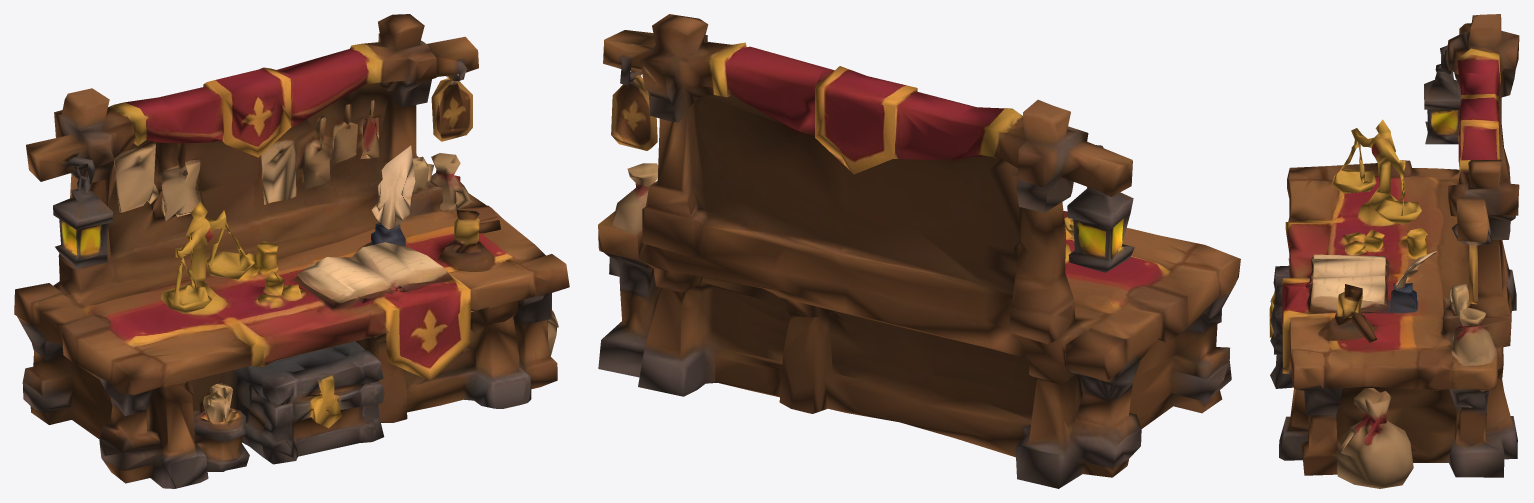
File: broker_stall-BDtCU-Vx.glb
3 views of the same model, side by side, from view 1: azimuth 30°, elevation 25°; view 2: azimuth 150°, elevation 25°; view 3: azimuth 270°, elevation 25° (orthographic). The views are drawn at different scales.
Visible parts, largest first — view 1: tripo_node_858e647f-d8ef-4c0c-8121-72aee9437189; view 2: tripo_node_858e647f-d8ef-4c0c-8121-72aee9437189; view 3: tripo_node_858e647f-d8ef-4c0c-8121-72aee9437189.
Boxes of the visible parts, x1=… form: tripo_node_858e647f-d8ef-4c0c-8121-72aee9437189: x1=14, y1=14, x2=569, y2=488; tripo_node_858e647f-d8ef-4c0c-8121-72aee9437189: x1=598, y1=14, x2=1240, y2=488; tripo_node_858e647f-d8ef-4c0c-8121-72aee9437189: x1=1269, y1=14, x2=1519, y2=488.
Bounding box in the file's own units: 1 × 0.6166 × 0.4848.
1 material, 1 textured.
